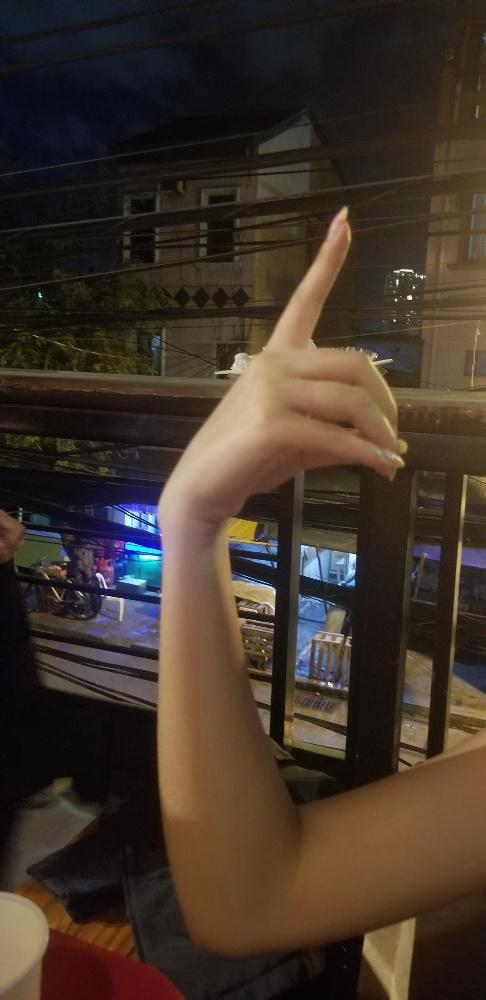d: (151, 201, 410, 528)
